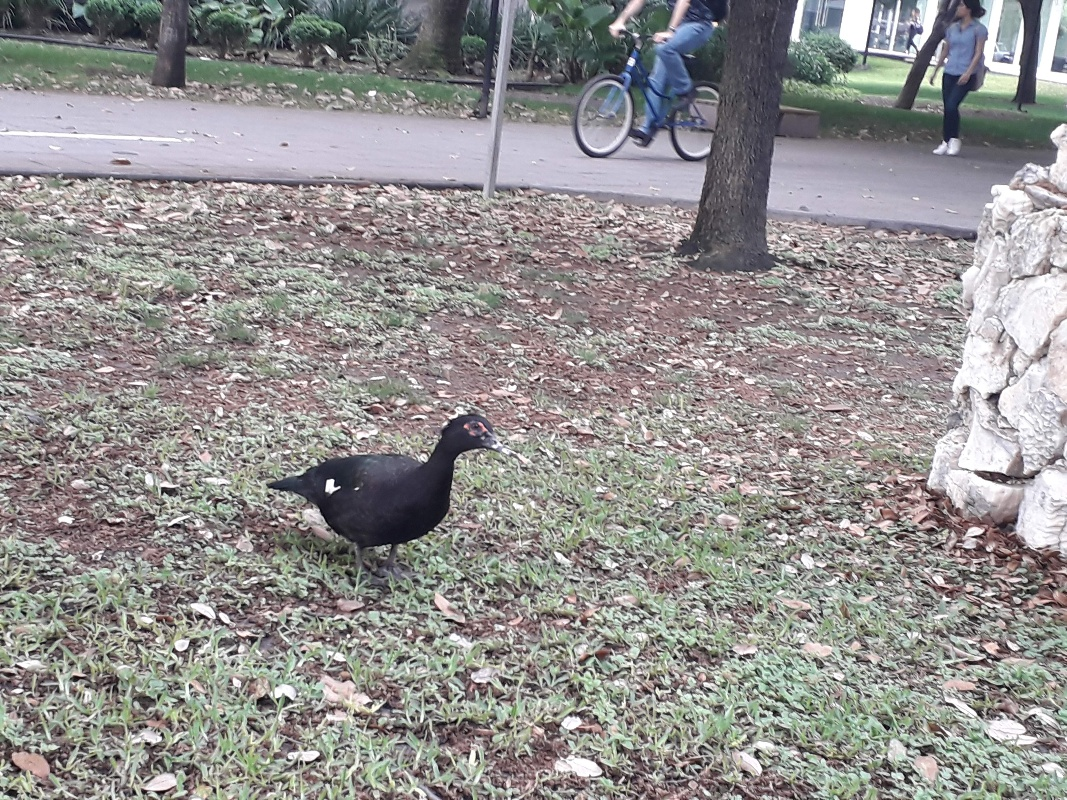pato: (288, 404, 499, 566)
